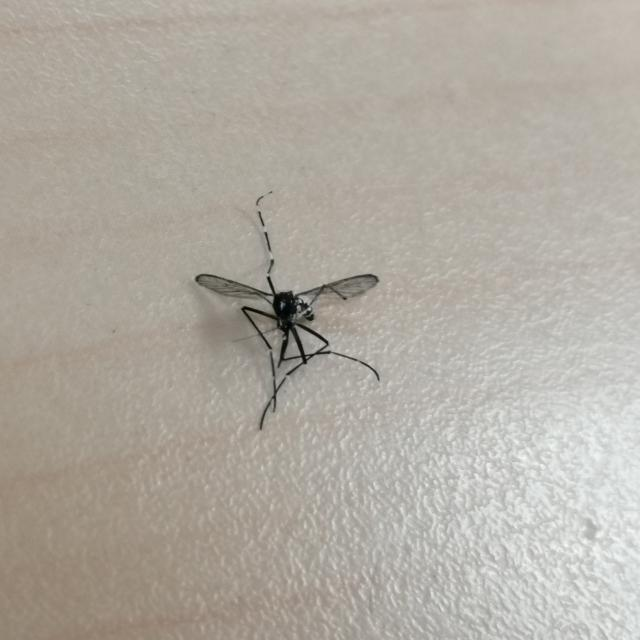albopictus: (183, 184, 389, 436)
